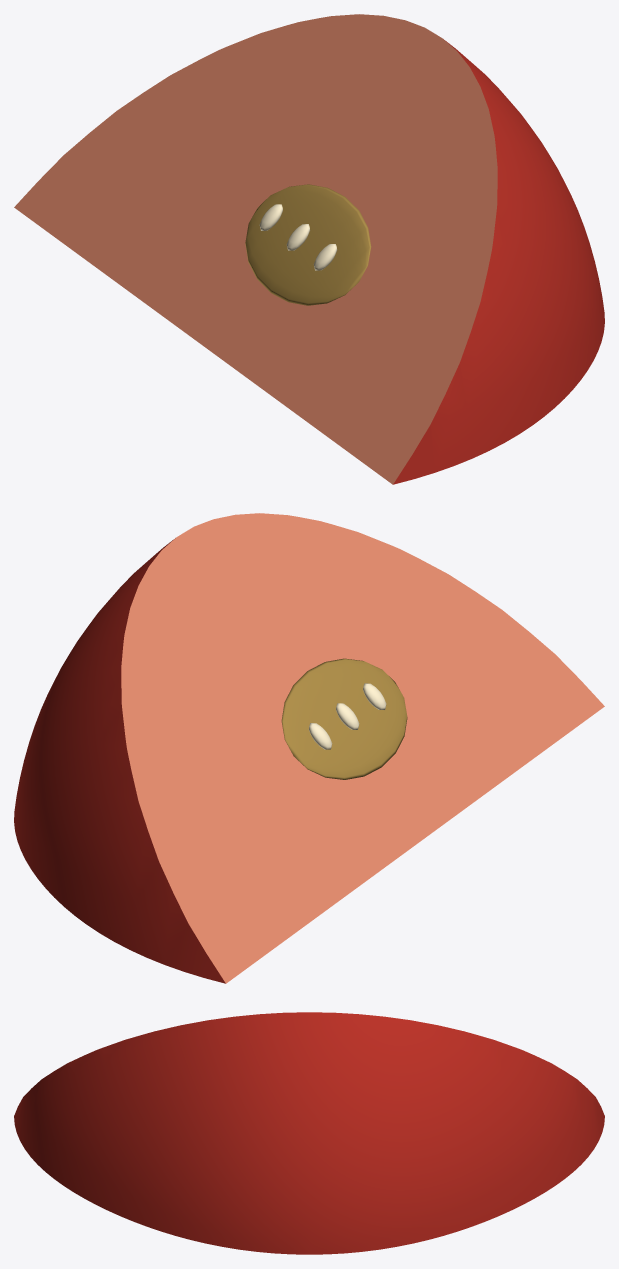
The model's file is early_girl_chunk.glb.
3 views of the same model, one above another, from view 1: azimuth 30°, elevation 25°; view 2: azimuth 150°, elevation 25°; view 3: azimuth 270°, elevation 25° (orthographic). The views are drawn at different scales.
Visible parts, largest first — view 1: Prepared Early Girl half, Fresh Early Girl diagonal gallery, Fresh Early Girl diagonal cream seed; view 2: Prepared Early Girl half, Fresh Early Girl diagonal gallery, Fresh Early Girl diagonal cream seed; view 3: Prepared Early Girl half.
Boxes of the visible parts, box(x1,y1,x2,y2) form: Prepared Early Girl half: box(14, 14, 604, 484); Fresh Early Girl diagonal gallery: box(245, 184, 371, 305); Fresh Early Girl diagonal cream seed: box(259, 204, 337, 270); Prepared Early Girl half: box(14, 513, 604, 983); Fresh Early Girl diagonal gallery: box(281, 658, 407, 779); Fresh Early Girl diagonal cream seed: box(308, 683, 386, 749); Prepared Early Girl half: box(14, 1012, 604, 1254).
Size of the model in its own units: 0.621 by 0.4073 by 1.12.
